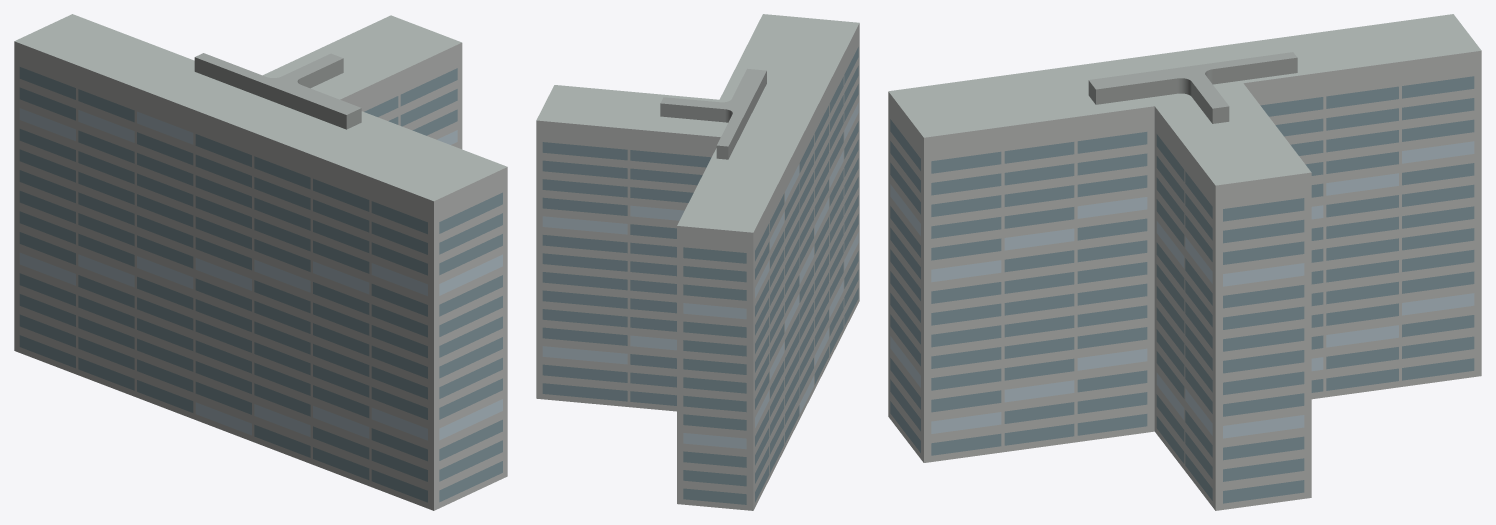
File: apt-a13275001.glb
The picture shows the model from 3 angles, left to right: view 1: azimuth 30°, elevation 25°; view 2: azimuth 150°, elevation 25°; view 3: azimuth 270°, elevation 25°; orthographic projection. The views are drawn at different scales.
Visible parts, largest first — view 1: apt-a13275001; view 2: apt-a13275001; view 3: apt-a13275001.
Part boxes in pixels (x1,y1,x2,y2): apt-a13275001: [14, 14, 507, 510]; apt-a13275001: [536, 14, 859, 510]; apt-a13275001: [888, 14, 1481, 510].
Bounding box in the file's own units: 43.21 × 40 × 63.14.
